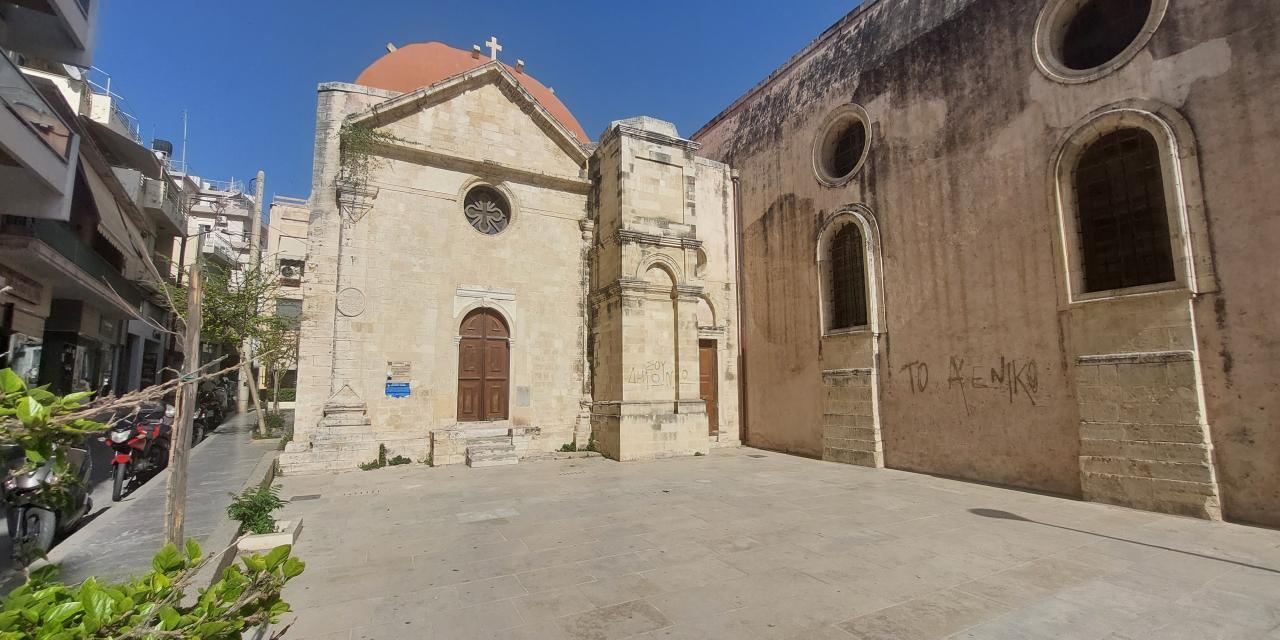Agia Aikaterini: (294, 1, 1280, 532)
